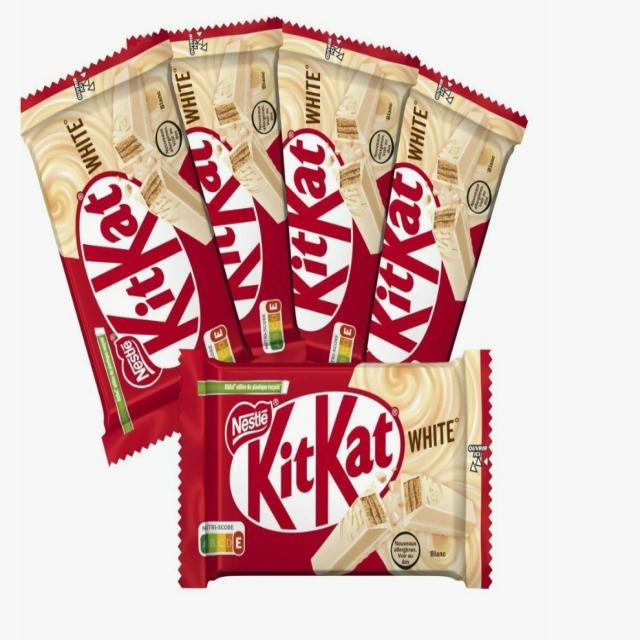supermarket-product: (73, 170, 204, 370)
